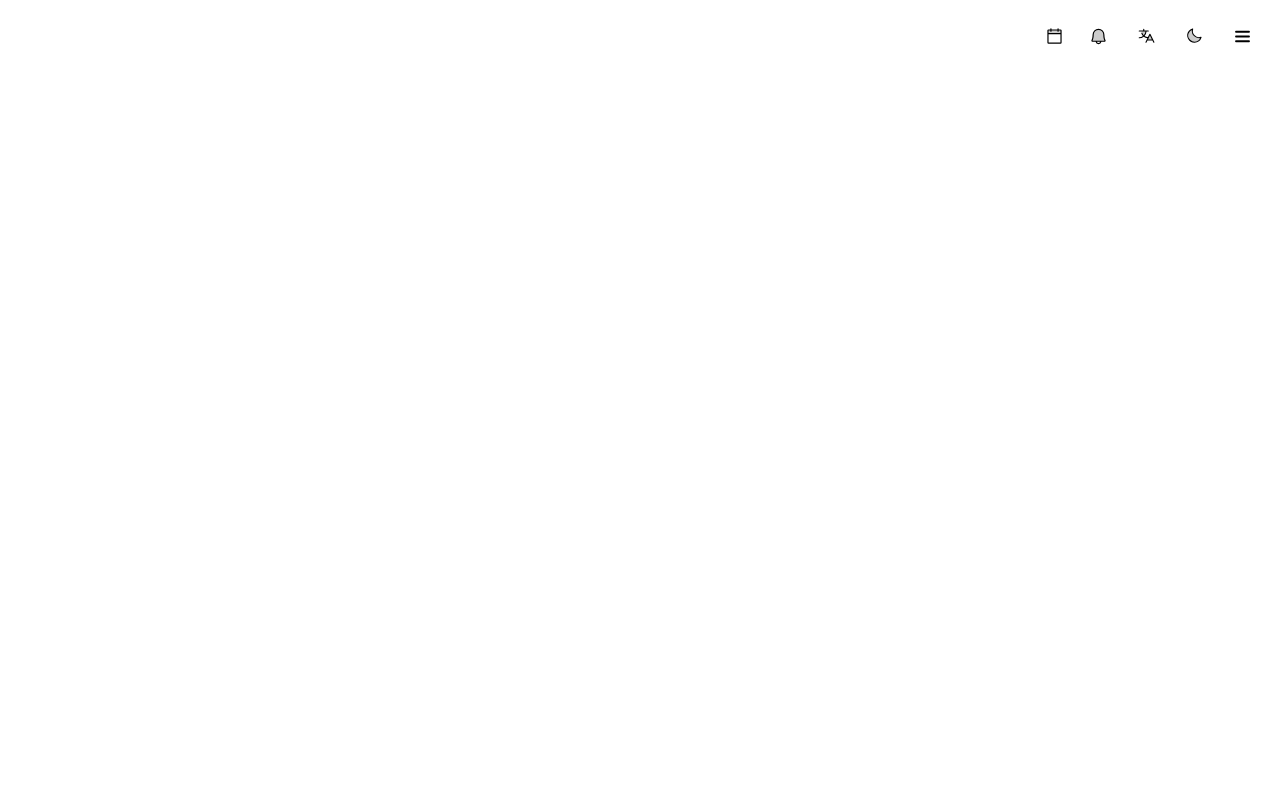
Scenario: opens current approval notifications without claiming unread or delivery
This screenshot has width=1280, height=800.
Step 1. Click the button named "通知" → (1098, 36), box [1076, 14, 1120, 58]
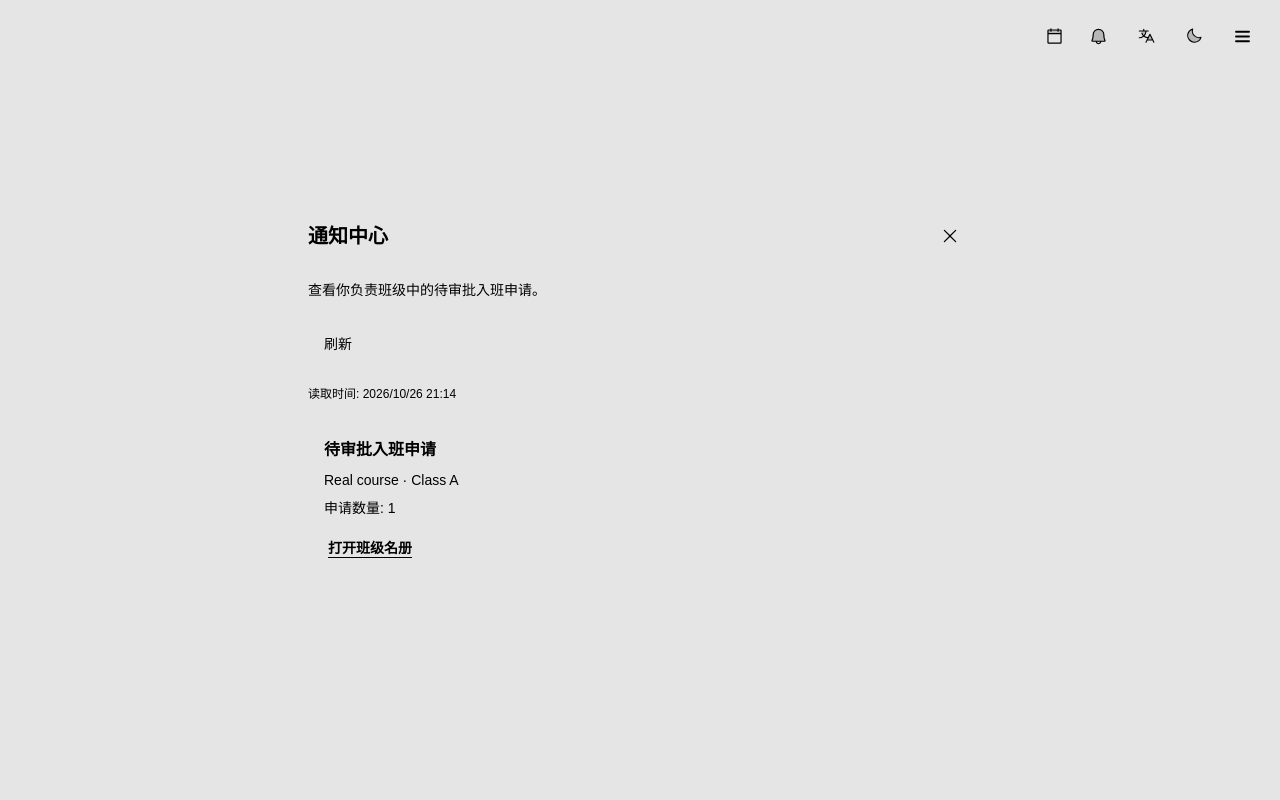
Now the heading "待审批入班申请" is shown, box [324, 441, 436, 458]
